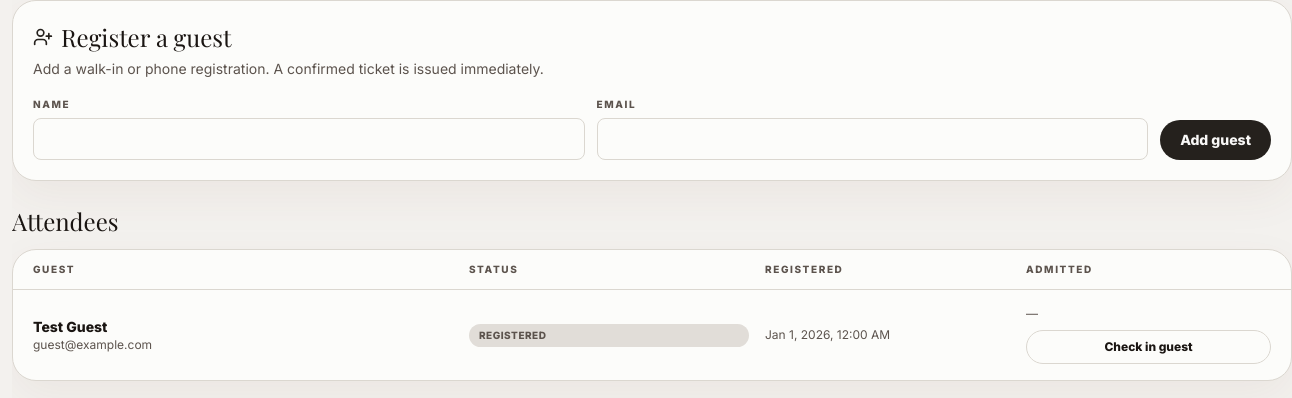
Test: attendee list admits by registration ID without a token and updates displayed status
The width and height of the screenshot is (1292, 398).
What coordinates should you click on to do the following:
click the button with aria-label "Check in Test Guest"
I would click on:
 (1148, 347)
Its box is [1026, 330, 1271, 364].
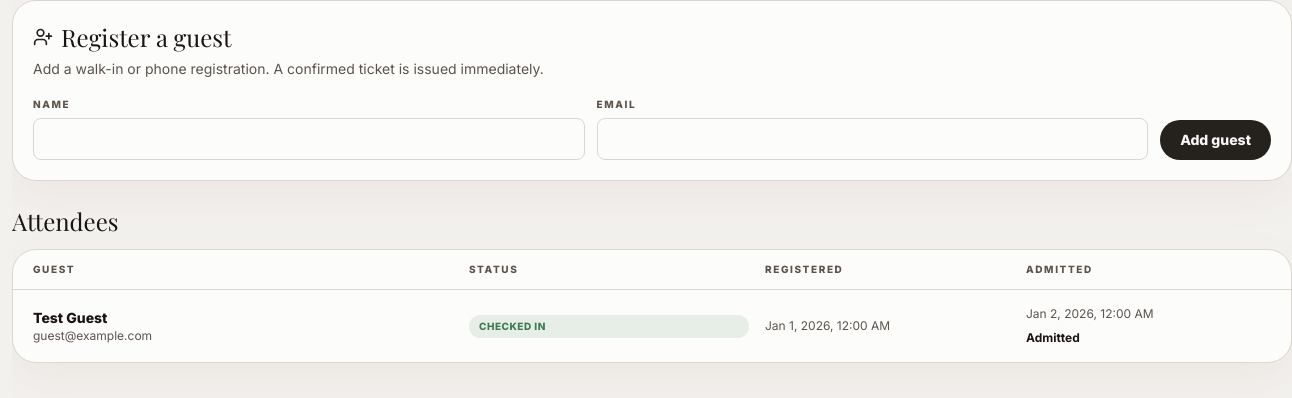
Check: the text "Checked in" is shown, box [469, 314, 749, 338]
